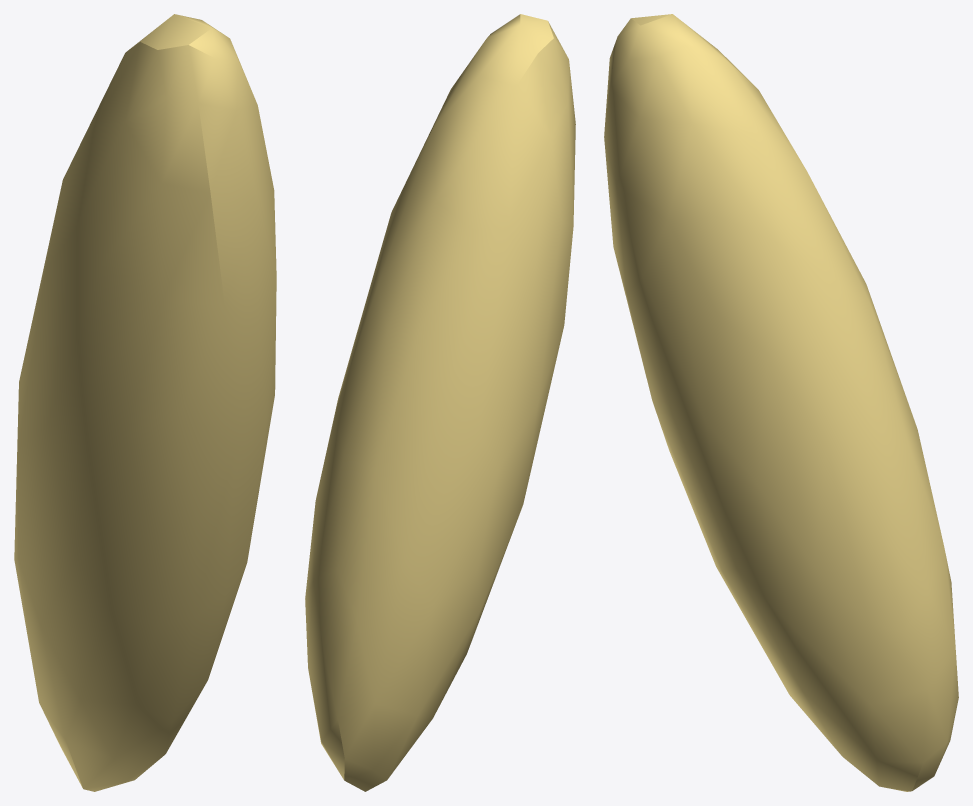
The model's file is fma73489_mm3591m.glb.
3 renders of one model, left to right at view 1: azimuth 30°, elevation 25°; view 2: azimuth 150°, elevation 25°; view 3: azimuth 270°, elevation 25°, orthographic. The views are drawn at different scales.
Parts seen in each view (by area): view 1: FMA73489_MM3591M; view 2: FMA73489_MM3591M; view 3: FMA73489_MM3591M.
Boxes of the visible parts, box(x1,y1,x2,y2) form: FMA73489_MM3591M: box(14, 14, 276, 791); FMA73489_MM3591M: box(305, 14, 575, 791); FMA73489_MM3591M: box(604, 14, 958, 791).
Bounding box in the file's own units: 0.00208 × 0.00791 × 0.00337.
